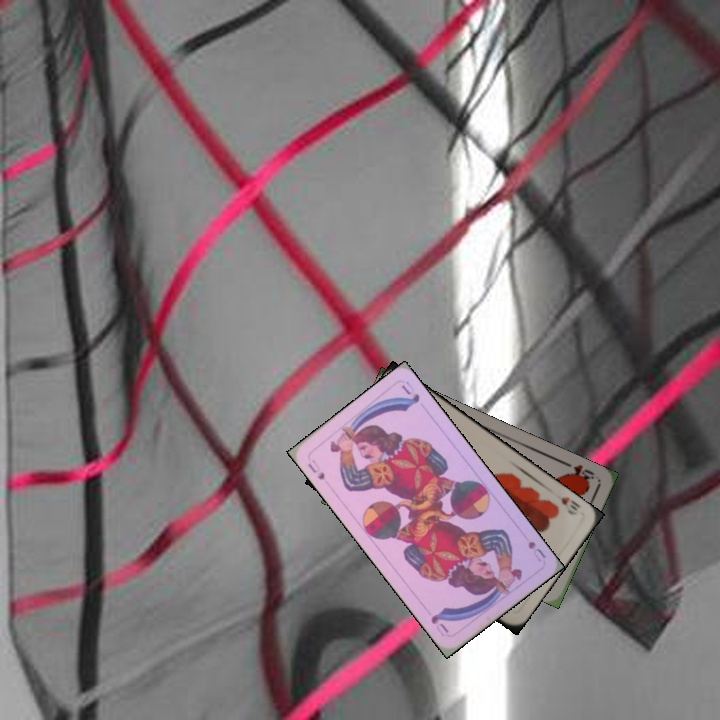H10: (556, 492, 583, 518)
HO: (561, 458, 597, 485)
SU: (303, 456, 328, 483), (524, 537, 548, 564)
